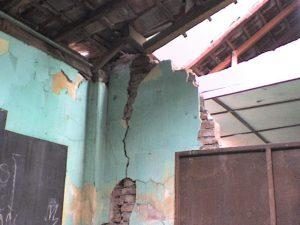Crack: (117, 111, 136, 191)
